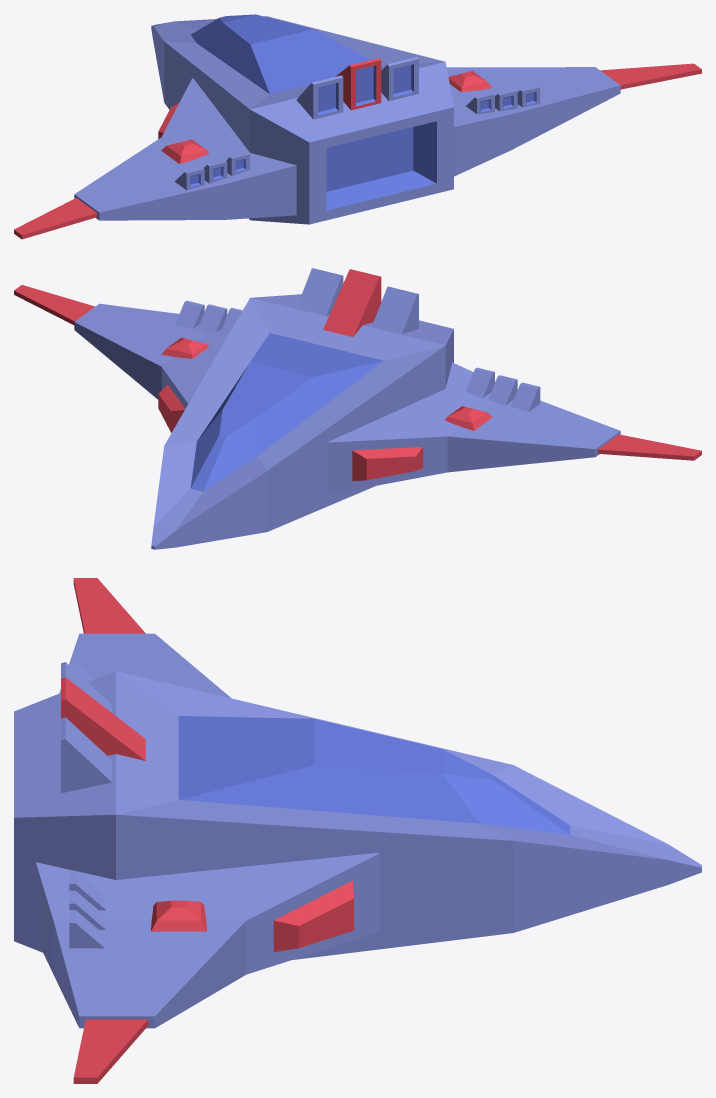
The picture shows the model from 3 angles, top to bottom: view 1: azimuth 30°, elevation 25°; view 2: azimuth 150°, elevation 25°; view 3: azimuth 270°, elevation 25°; orthographic projection. The views are drawn at different scales.
Parts seen in each view (by area): view 1: Cube, Cube.001; view 2: Cube, Cube.001; view 3: Cube, Cube.001.
Boxes of the visible parts, x1=… form: Cube: x1=151, y1=14, x2=453, y2=224; Cube.001: x1=14, y1=63, x2=701, y2=239; Cube: x1=151, y1=268, x2=453, y2=549; Cube.001: x1=14, y1=285, x2=701, y2=494; Cube: x1=14, y1=662, x2=701, y2=959; Cube.001: x1=35, y1=578, x2=380, y2=1083.
Size of the model in its own units: 172 by 40.67 by 100.
